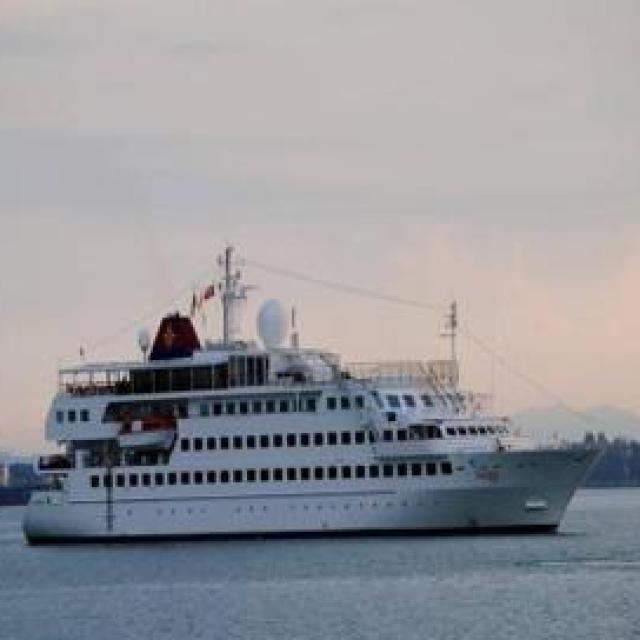passenger ship: (19, 308, 596, 538)
